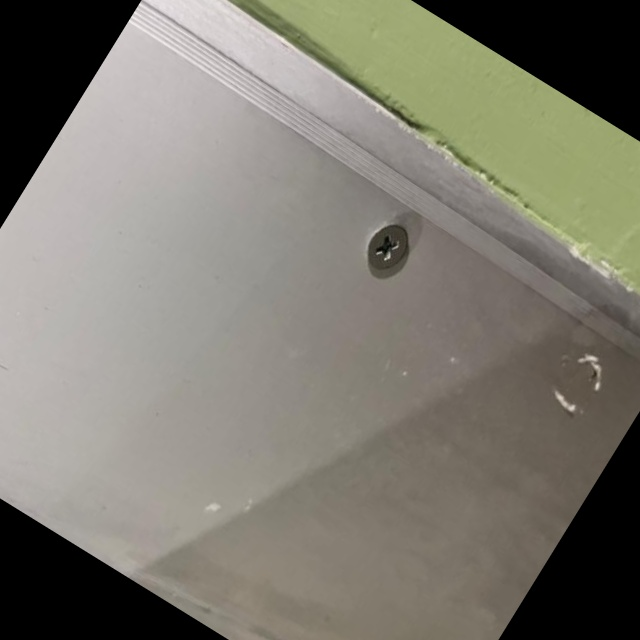phillips: (358, 216, 417, 278)
